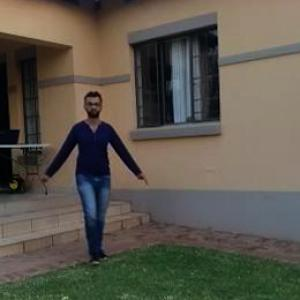land: (41, 97, 142, 256)
